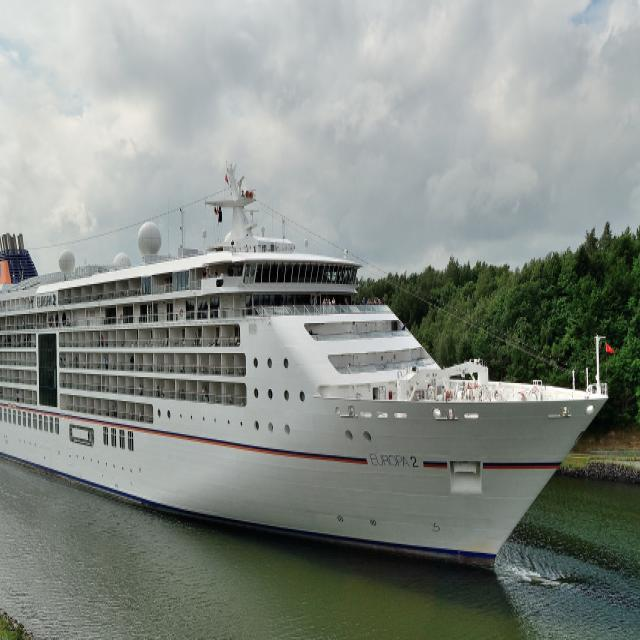cruises: (1, 158, 619, 586)
